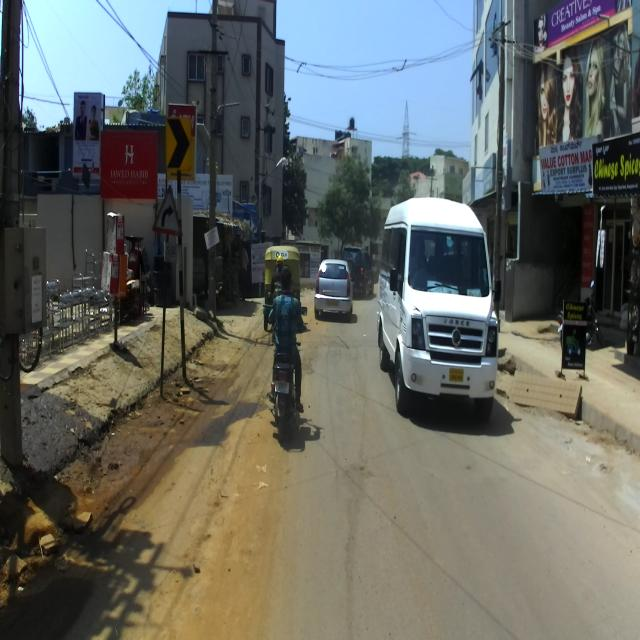bus ahead at: (383, 194, 497, 422)
car ahead at: (314, 253, 354, 326)
electric pole ahead at: (1, 1, 44, 484)
motorcycle ahead at: (267, 335, 305, 436)
sign board ahead at: (164, 112, 198, 180)
